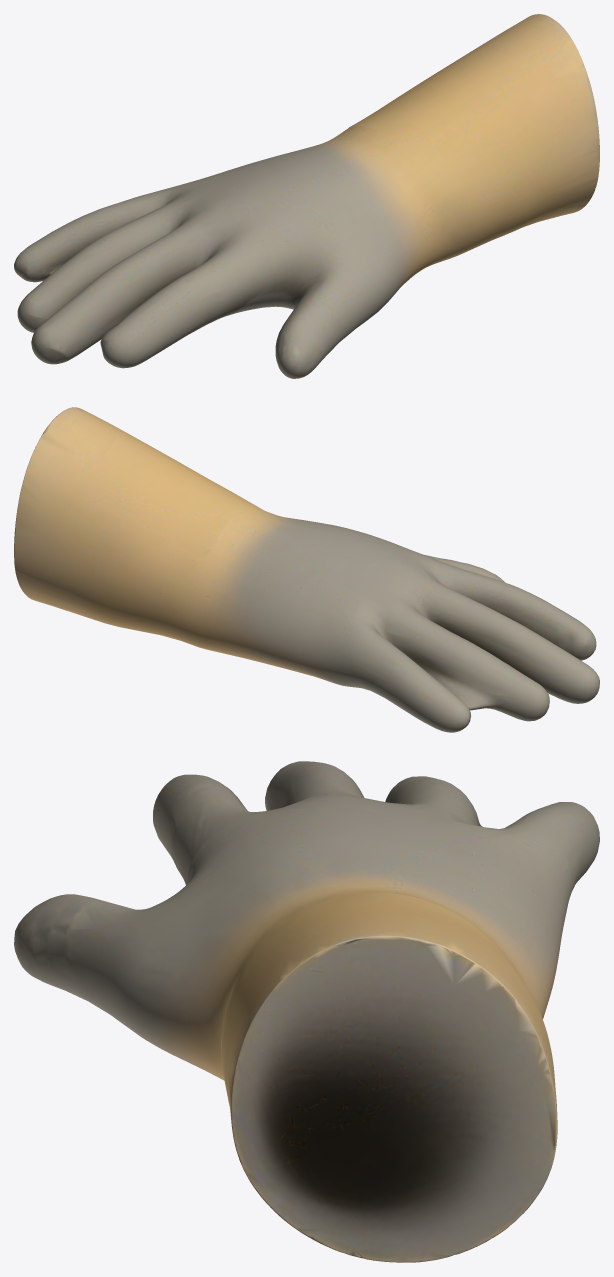
The model's file is naiwa_hand_cursor.glb.
3 views of the same model, one above another, from view 1: azimuth 30°, elevation 25°; view 2: azimuth 150°, elevation 25°; view 3: azimuth 270°, elevation 25° (orthographic). The views are drawn at different scales.
Visible parts, largest first — view 1: node_0; view 2: node_0; view 3: node_0.
Boxes of the visible parts, bbox=[...] form: node_0: bbox=[14, 14, 599, 378]; node_0: bbox=[14, 407, 599, 732]; node_0: bbox=[14, 761, 599, 1262].
Bounding box in the file's own units: 1.09 × 0.3769 × 0.5875.
1 material, 1 textured.
